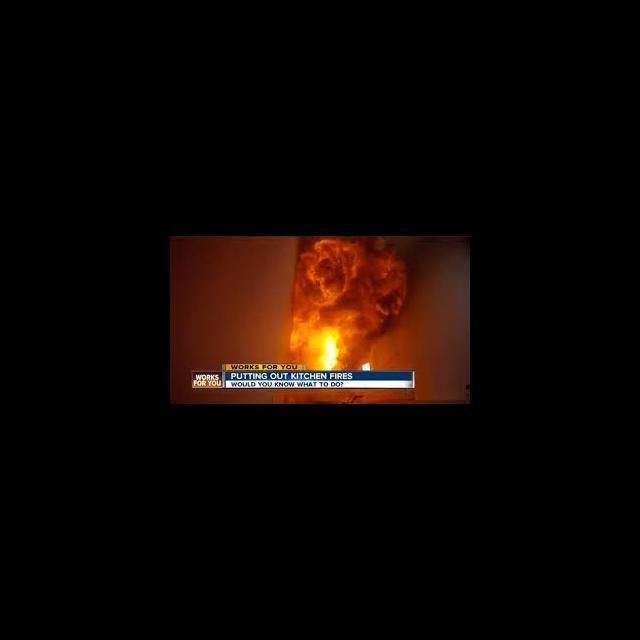Fire: (289, 237, 412, 371)
